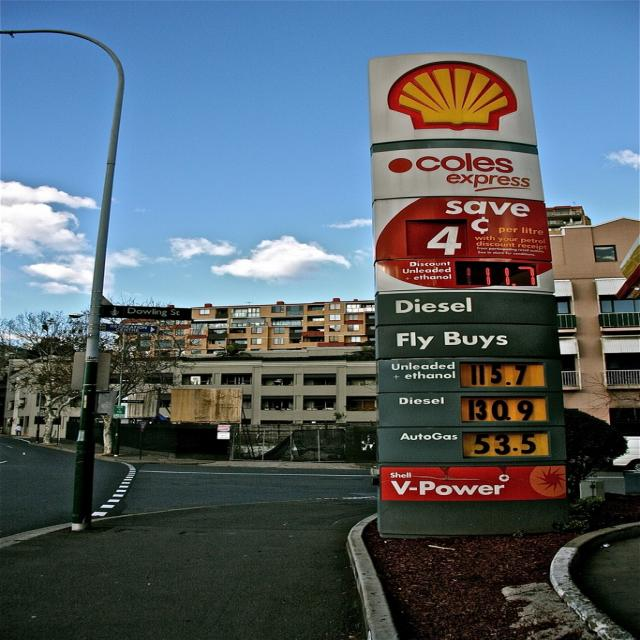shell: (386, 61, 519, 133)
